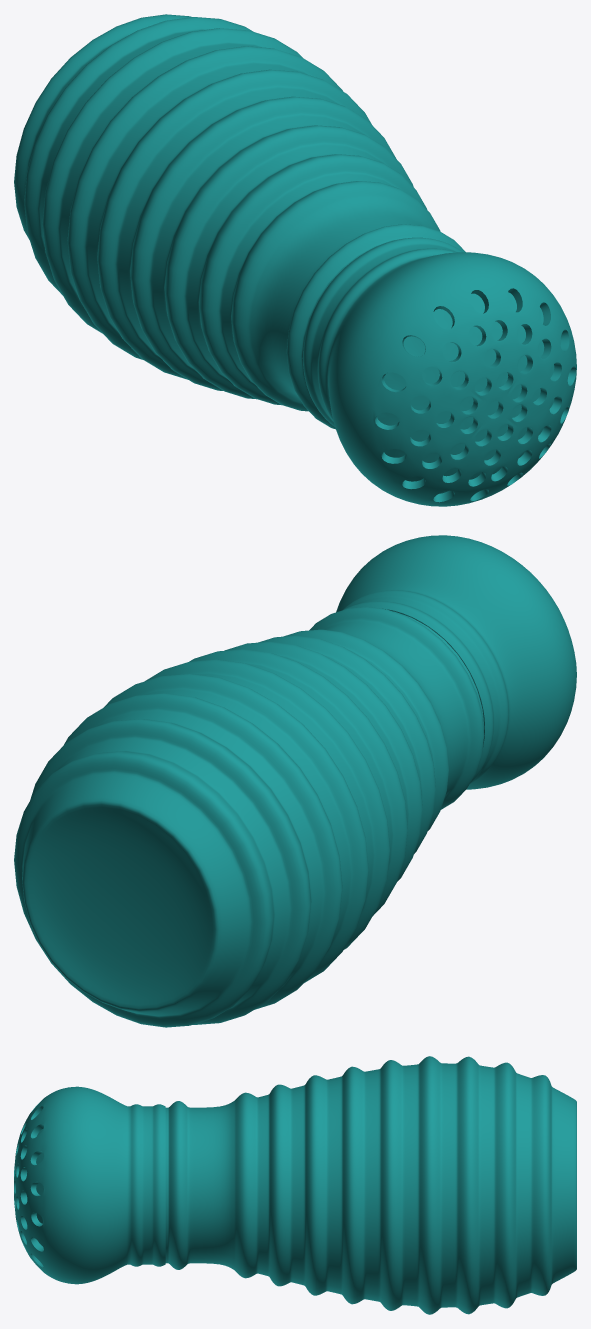
The model's file is 20403_Beehive_Salt or_Pepper_Shaker_V2.obj.
3 views of the same model, one above another, from view 1: azimuth 30°, elevation 25°; view 2: azimuth 150°, elevation 25°; view 3: azimuth 270°, elevation 25° (orthographic). The views are drawn at different scales.
Parts seen in each view (by area): view 1: 20403_Beehive_Salt_or_Pepper_Shaker; view 2: 20403_Beehive_Salt_or_Pepper_Shaker; view 3: 20403_Beehive_Salt_or_Pepper_Shaker.
Boxes of the visible parts, <box> form: 20403_Beehive_Salt_or_Pepper_Shaker: <box>14,14,576,506</box>; 20403_Beehive_Salt_or_Pepper_Shaker: <box>14,535,576,1027</box>; 20403_Beehive_Salt_or_Pepper_Shaker: <box>14,1056,576,1314</box>.
Size of the model in its own units: 4.89 by 4.89 by 10.62.
